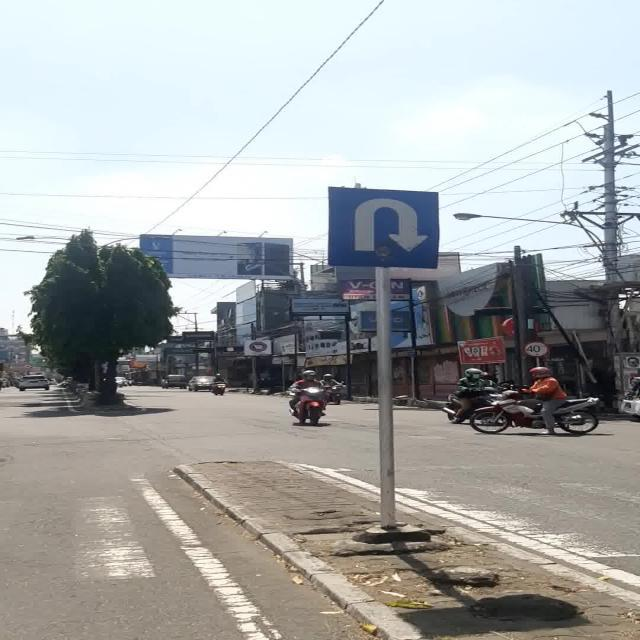Putar Balik: (328, 186, 439, 269)
